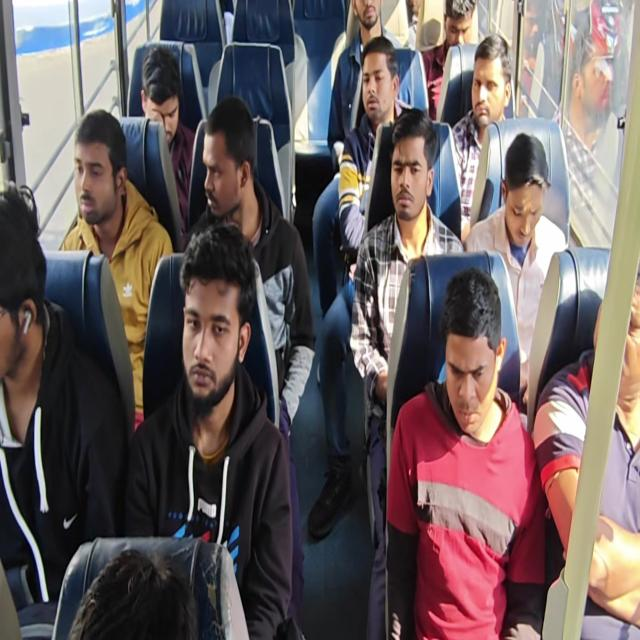person: (418, 267, 520, 441), (184, 227, 258, 430), (82, 547, 199, 640), (0, 180, 52, 387), (504, 124, 562, 248), (202, 93, 254, 223), (595, 256, 640, 403), (381, 112, 442, 220), (74, 109, 125, 233), (472, 33, 524, 137), (139, 48, 180, 148), (363, 30, 398, 127), (438, 1, 482, 48), (349, 0, 384, 31)
